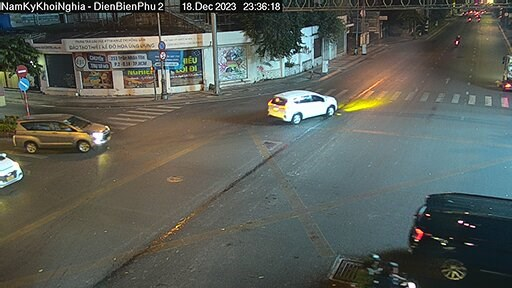car: (406, 172, 500, 280), (16, 105, 116, 157), (270, 83, 335, 129)
